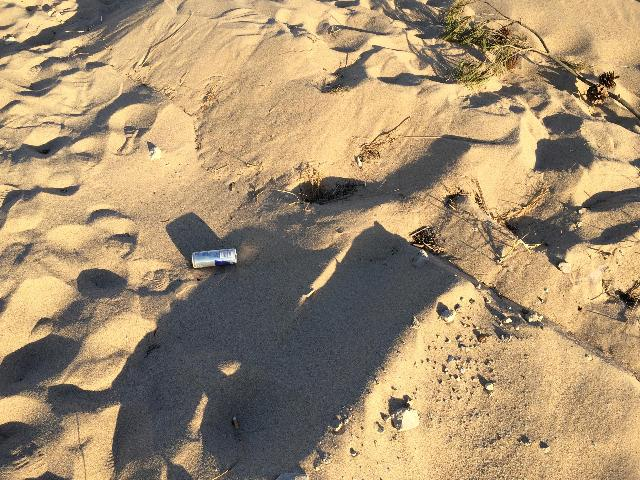metal: (192, 248, 236, 268)
